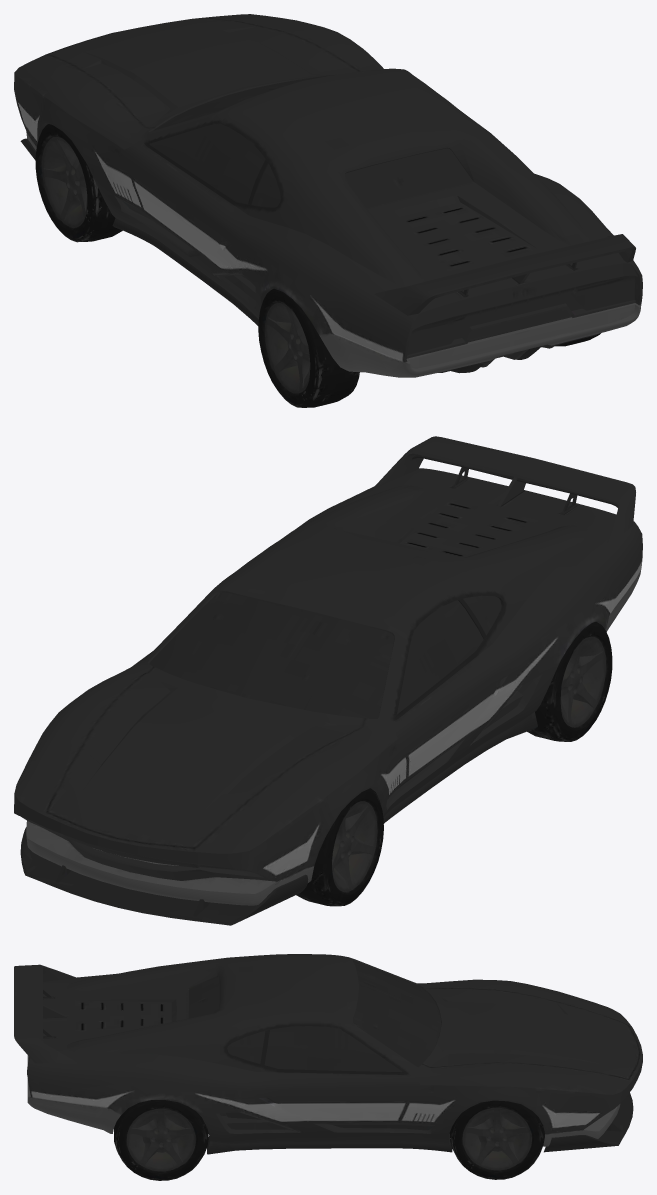
The model's file is cyberpunk_car-transformed.glb.
3 renders of one model, top to bottom at view 1: azimuth 30°, elevation 25°; view 2: azimuth 150°, elevation 25°; view 3: azimuth 270°, elevation 25°, orthographic. The views are drawn at different scales.
Visible parts, largest first — view 1: cb_car_export; view 2: cb_car_export; view 3: cb_car_export.
Part boxes in pixels (x1,y1,x2,y2): cb_car_export: (14, 14, 642, 407); cb_car_export: (14, 436, 642, 925); cb_car_export: (14, 954, 642, 1180).
Bounding box in the file's own units: 223 × 140 × 541.
Materials: 1 (1 with a texture image).
